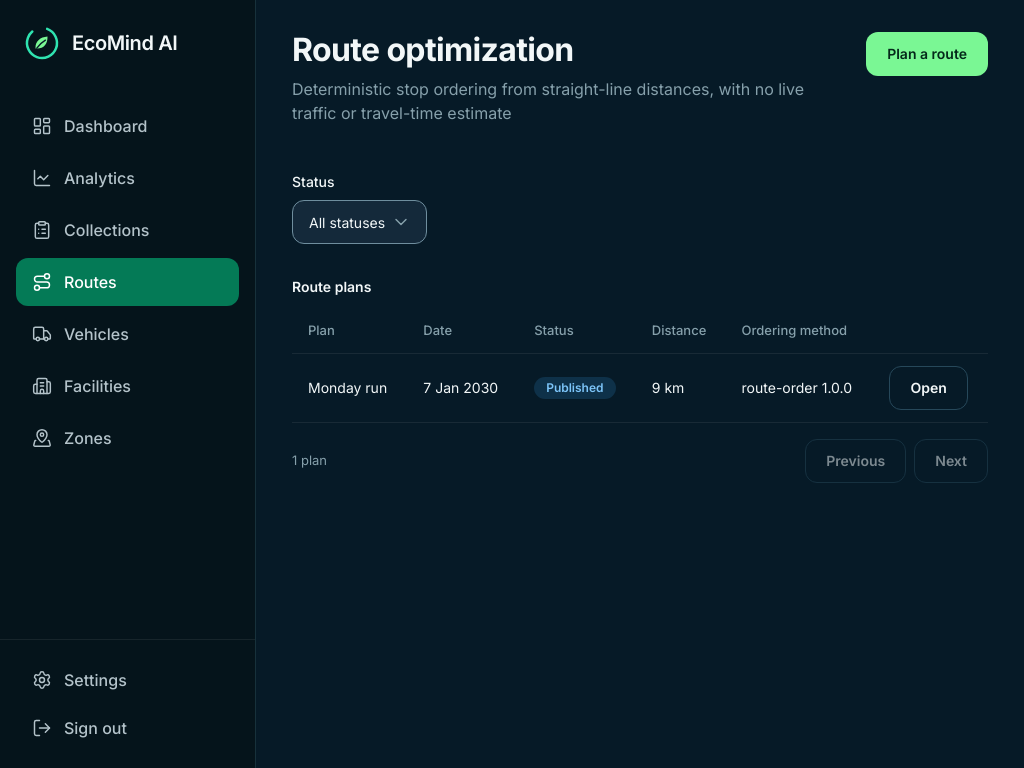
it: route plan map › explains a provider failure (quota_exceeded) and still shows the stops
This screenshot has width=1024, height=768.
Click the button with aria-label "Monday run" at (929,388), box [889,366,968,410]
(page scrolled)
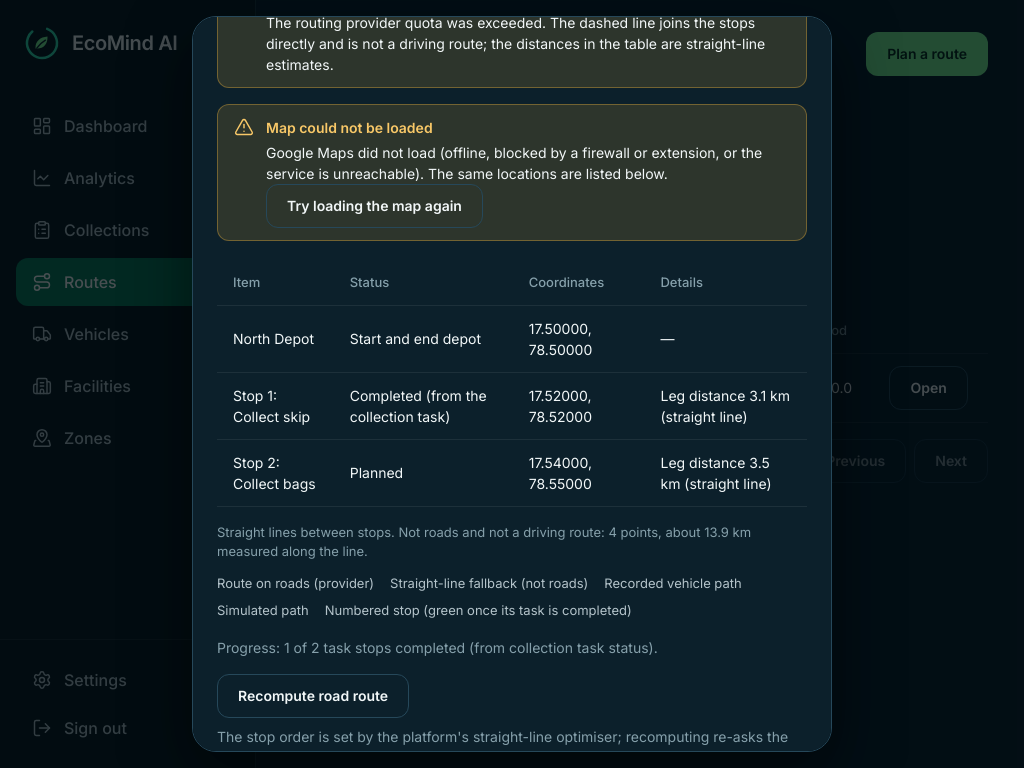
Check: the text "quota was exceeded" is shown, box [266,16,546,31]
Check: the table named "Route plan: locations" is shown, box [217,261,807,507]
